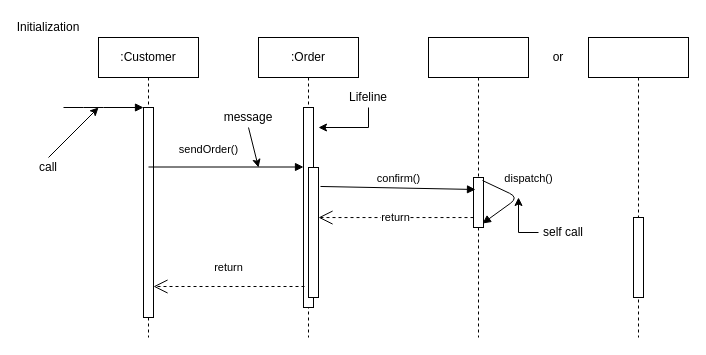
This 706x355 diagram has some shape labels left out. The shapes that lost their labels are listed below. From the top down, each one's box as (x1, y1, x2, y2) in pixels, then its label:
(428, 36, 528, 338): :SpecialOrder
(588, 36, 688, 338): :NormalOrder
